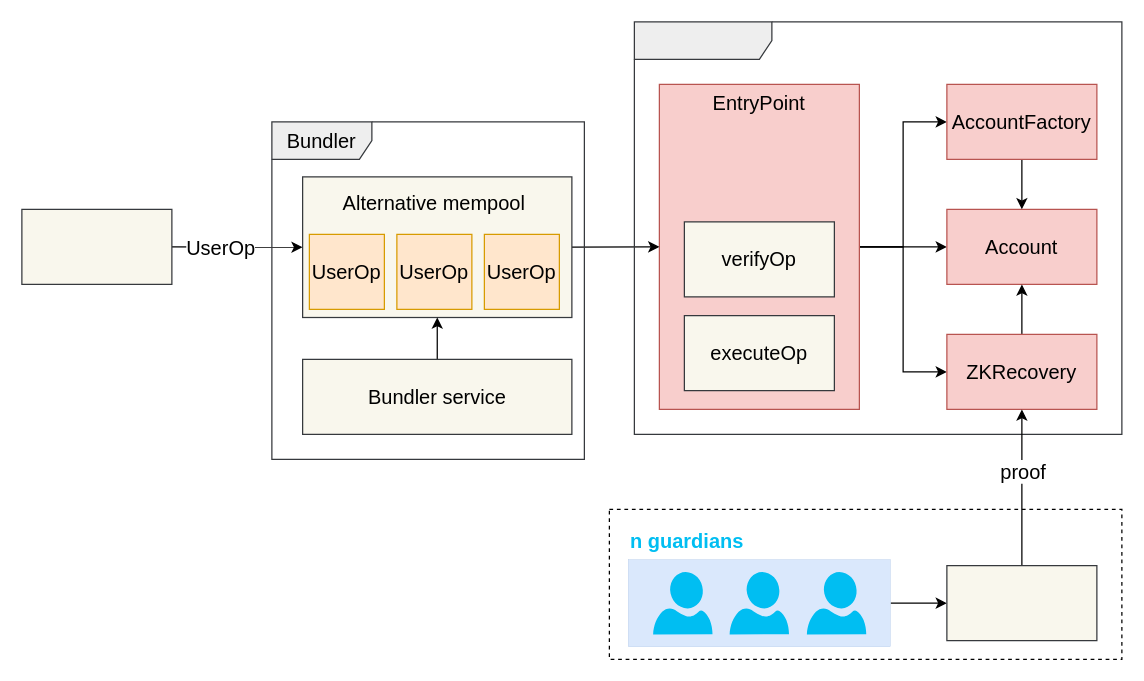
The diagram is 1144 pixels wide and 681 high, and some of its shapes have lost their labels. Here are the shapes that lost their labels. From the top down, the box of each, then its label:
(21, 208, 172, 284): App/UI
(633, 21, 1122, 434): On-Chain
(946, 564, 1097, 641): Key pair
